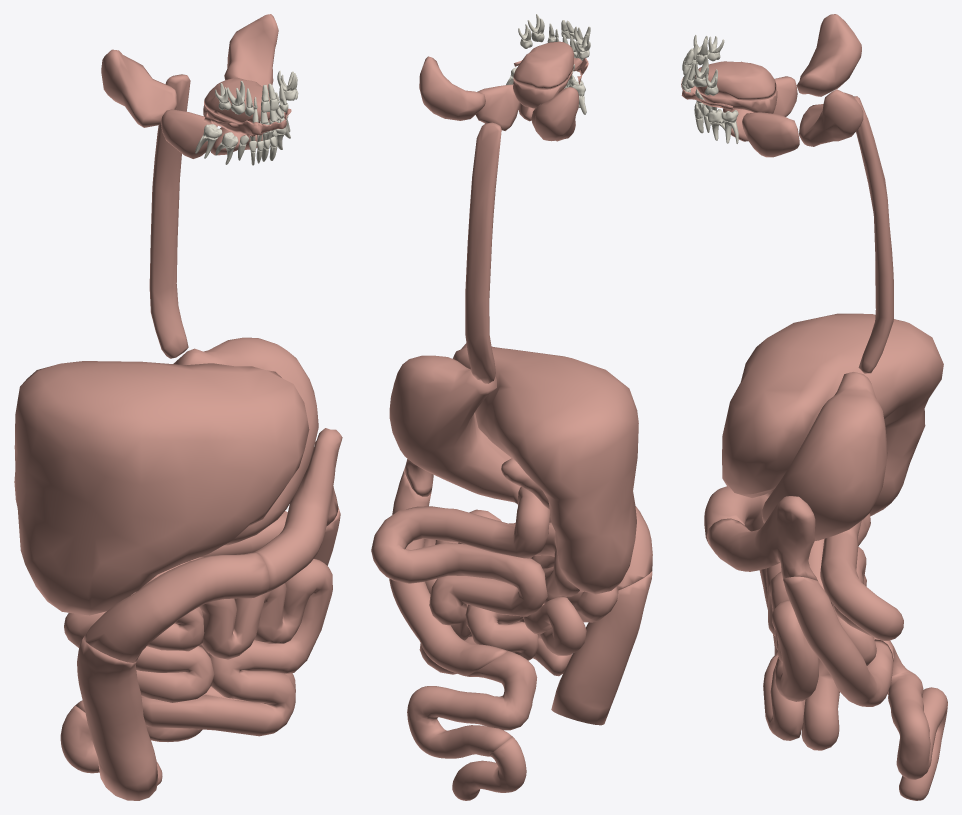
The model's file is pediatric_infant_male.digestive.LOD0.glb.
3 views of the same model, side by side, from view 1: azimuth 30°, elevation 25°; view 2: azimuth 150°, elevation 25°; view 3: azimuth 270°, elevation 25° (orthographic). The views are drawn at different scales.
Parts seen in each view (by area): view 1: PEDIATRIC.INFANT.MALE.DIGESTIVE.LIVER, PEDIATRIC.INFANT.MALE.DIGESTIVE.SMALL_INTESTINE_WALL, PEDIATRIC.INFANT.MALE.DIGESTIVE.TRANSVERSE_COLON_WALL.R, PEDIATRIC.INFANT.MALE.DIGESTIVE.ASCENDING_COLON_WALL, PEDIATRIC.INFANT.MALE.DIGESTIVE.OESOPHAGUS_WALL, PEDIATRIC.INFANT.MALE.DIGESTIVE.TRANSVERSE_COLON_WALL.L, PEDIATRIC.INFANT.MALE.DIGESTIVE.SALIVARY_GLANDS.R, PEDIATRIC.INFANT.MALE.DIGESTIVE.STOMACH_WALL, PEDIATRIC.INFANT.MALE.DIGESTIVE.SALIVARY_GLANDS.L, PEDIATRIC.INFANT.MALE.DIGESTIVE.DECIDUOUS_CEMENTUM, PEDIATRIC.INFANT.MALE.DIGESTIVE.RECTUM_WALL, PEDIATRIC.INFANT.MALE.DIGESTIVE.ORAL_MUCOSA_MOUTH_FLOOR (+4 smaller); view 2: PEDIATRIC.INFANT.MALE.DIGESTIVE.LIVER, PEDIATRIC.INFANT.MALE.DIGESTIVE.SMALL_INTESTINE_WALL, PEDIATRIC.INFANT.MALE.DIGESTIVE.STOMACH_WALL, PEDIATRIC.INFANT.MALE.DIGESTIVE.SIGMOID_COLON_WALL, PEDIATRIC.INFANT.MALE.DIGESTIVE.ASCENDING_COLON_WALL, PEDIATRIC.INFANT.MALE.DIGESTIVE.OESOPHAGUS_WALL, PEDIATRIC.INFANT.MALE.DIGESTIVE.DESCENDING_COLON_WALL, PEDIATRIC.INFANT.MALE.DIGESTIVE.SALIVARY_GLANDS.L, PEDIATRIC.INFANT.MALE.DIGESTIVE.RECTUM_WALL, PEDIATRIC.INFANT.MALE.DIGESTIVE.ORAL_MUCOSA_MOUTH_FLOOR, PEDIATRIC.INFANT.MALE.DIGESTIVE.SALIVARY_GLANDS.R, PEDIATRIC.INFANT.MALE.DIGESTIVE.TRANSVERSE_COLON_WALL.R (+5 smaller); view 3: PEDIATRIC.INFANT.MALE.DIGESTIVE.LIVER, PEDIATRIC.INFANT.MALE.DIGESTIVE.SMALL_INTESTINE_WALL, PEDIATRIC.INFANT.MALE.DIGESTIVE.STOMACH_WALL, PEDIATRIC.INFANT.MALE.DIGESTIVE.DESCENDING_COLON_WALL, PEDIATRIC.INFANT.MALE.DIGESTIVE.TRANSVERSE_COLON_WALL.L, PEDIATRIC.INFANT.MALE.DIGESTIVE.SALIVARY_GLANDS.L, PEDIATRIC.INFANT.MALE.DIGESTIVE.SIGMOID_COLON_WALL, PEDIATRIC.INFANT.MALE.DIGESTIVE.OESOPHAGUS_WALL, PEDIATRIC.INFANT.MALE.DIGESTIVE.SALIVARY_GLANDS.R, PEDIATRIC.INFANT.MALE.DIGESTIVE.ORAL_MUCOSA_MOUTH_FLOOR, PEDIATRIC.INFANT.MALE.DIGESTIVE.TRANSVERSE_COLON_WALL.R, PEDIATRIC.INFANT.MALE.DIGESTIVE.DECIDUOUS_CEMENTUM (+3 smaller).
Part boxes in pixels (left/top/right/bottom): PEDIATRIC.INFANT.MALE.DIGESTIVE.LIVER: left=14, top=361, right=309, bottom=615; PEDIATRIC.INFANT.MALE.DIGESTIVE.SMALL_INTESTINE_WALL: left=64, top=511, right=332, bottom=736; PEDIATRIC.INFANT.MALE.DIGESTIVE.TRANSVERSE_COLON_WALL.R: left=83, top=552, right=269, bottom=662; PEDIATRIC.INFANT.MALE.DIGESTIVE.ASCENDING_COLON_WALL: left=77, top=638, right=158, bottom=800; PEDIATRIC.INFANT.MALE.DIGESTIVE.OESOPHAGUS_WALL: left=149, top=74, right=190, bottom=358; PEDIATRIC.INFANT.MALE.DIGESTIVE.TRANSVERSE_COLON_WALL.L: left=253, top=428, right=342, bottom=593; PEDIATRIC.INFANT.MALE.DIGESTIVE.SALIVARY_GLANDS.R: left=101, top=49, right=244, bottom=158; PEDIATRIC.INFANT.MALE.DIGESTIVE.STOMACH_WALL: left=173, top=337, right=318, bottom=545; PEDIATRIC.INFANT.MALE.DIGESTIVE.SALIVARY_GLANDS.L: left=224, top=14, right=278, bottom=149; PEDIATRIC.INFANT.MALE.DIGESTIVE.DECIDUOUS_CEMENTUM: left=195, top=70, right=297, bottom=164; PEDIATRIC.INFANT.MALE.DIGESTIVE.RECTUM_WALL: left=60, top=705, right=162, bottom=785; PEDIATRIC.INFANT.MALE.DIGESTIVE.ORAL_MUCOSA_MOUTH_FLOOR: left=204, top=77, right=270, bottom=123; PEDIATRIC.INFANT.MALE.DIGESTIVE.LIVER: left=452, top=343, right=638, bottom=594; PEDIATRIC.INFANT.MALE.DIGESTIVE.SMALL_INTESTINE_WALL: left=371, top=487, right=618, bottom=676; PEDIATRIC.INFANT.MALE.DIGESTIVE.STOMACH_WALL: left=389, top=355, right=520, bottom=503; PEDIATRIC.INFANT.MALE.DIGESTIVE.SIGMOID_COLON_WALL: left=407, top=651, right=537, bottom=758; PEDIATRIC.INFANT.MALE.DIGESTIVE.ASCENDING_COLON_WALL: left=551, top=571, right=652, bottom=725; PEDIATRIC.INFANT.MALE.DIGESTIVE.OESOPHAGUS_WALL: left=465, top=122, right=501, bottom=383; PEDIATRIC.INFANT.MALE.DIGESTIVE.DESCENDING_COLON_WALL: left=389, top=469, right=507, bottom=676; PEDIATRIC.INFANT.MALE.DIGESTIVE.SALIVARY_GLANDS.L: left=419, top=56, right=534, bottom=130; PEDIATRIC.INFANT.MALE.DIGESTIVE.RECTUM_WALL: left=452, top=737, right=526, bottom=800; PEDIATRIC.INFANT.MALE.DIGESTIVE.ORAL_MUCOSA_MOUTH_FLOOR: left=513, top=41, right=574, bottom=89; PEDIATRIC.INFANT.MALE.DIGESTIVE.SALIVARY_GLANDS.R: left=531, top=87, right=578, bottom=141; PEDIATRIC.INFANT.MALE.DIGESTIVE.TRANSVERSE_COLON_WALL.R: left=617, top=506, right=652, bottom=590; PEDIATRIC.INFANT.MALE.DIGESTIVE.LIVER: left=722, top=313, right=943, bottom=516; PEDIATRIC.INFANT.MALE.DIGESTIVE.SMALL_INTESTINE_WALL: left=763, top=513, right=903, bottom=750; PEDIATRIC.INFANT.MALE.DIGESTIVE.STOMACH_WALL: left=762, top=372, right=887, bottom=540; PEDIATRIC.INFANT.MALE.DIGESTIVE.DESCENDING_COLON_WALL: left=783, top=576, right=893, bottom=706; PEDIATRIC.INFANT.MALE.DIGESTIVE.TRANSVERSE_COLON_WALL.L: left=706, top=496, right=817, bottom=580; PEDIATRIC.INFANT.MALE.DIGESTIVE.SALIVARY_GLANDS.L: left=729, top=89, right=863, bottom=157; PEDIATRIC.INFANT.MALE.DIGESTIVE.SIGMOID_COLON_WALL: left=874, top=637, right=947, bottom=779; PEDIATRIC.INFANT.MALE.DIGESTIVE.OESOPHAGUS_WALL: left=853, top=96, right=893, bottom=373; PEDIATRIC.INFANT.MALE.DIGESTIVE.SALIVARY_GLANDS.R: left=723, top=14, right=861, bottom=116; PEDIATRIC.INFANT.MALE.DIGESTIVE.ORAL_MUCOSA_MOUTH_FLOOR: left=695, top=61, right=776, bottom=101; PEDIATRIC.INFANT.MALE.DIGESTIVE.TRANSVERSE_COLON_WALL.R: left=704, top=486, right=767, bottom=541; PEDIATRIC.INFANT.MALE.DIGESTIVE.DECIDUOUS_CEMENTUM: left=682, top=35, right=738, bottom=143.
Bounding box in the file's own units: 0.1369 × 0.3662 × 0.1173.
